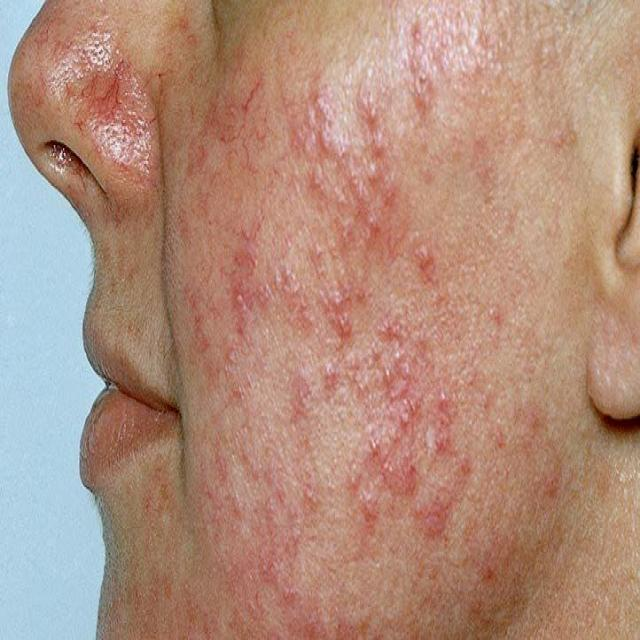Rosacea: (172, 13, 549, 625), (24, 13, 144, 161)
